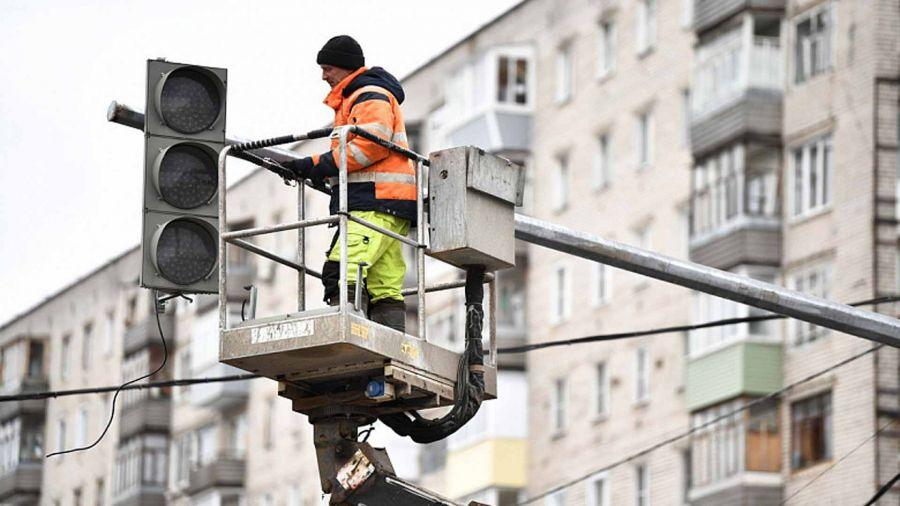off traffic light: (141, 59, 226, 297)
